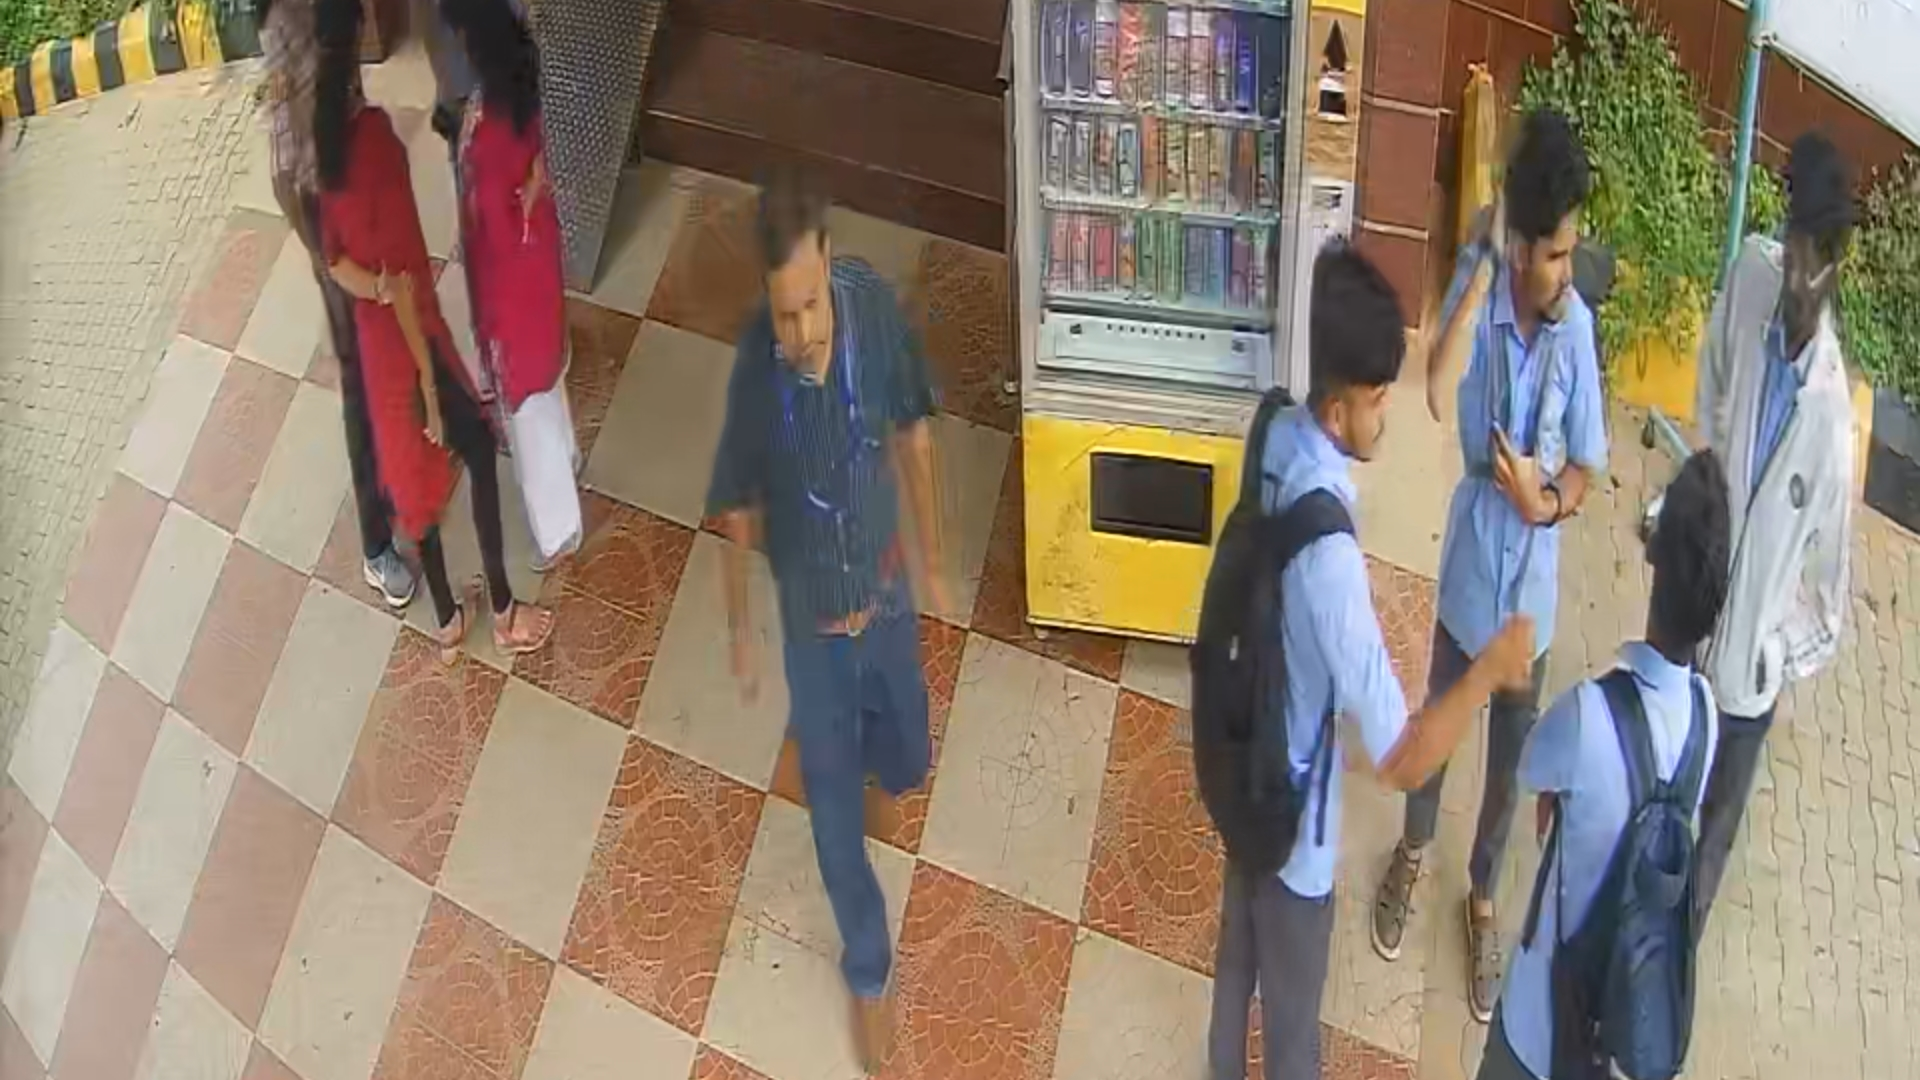intruder: (1712, 127, 1876, 818), (1468, 69, 1571, 658)
not intruder: (705, 166, 959, 1080)
